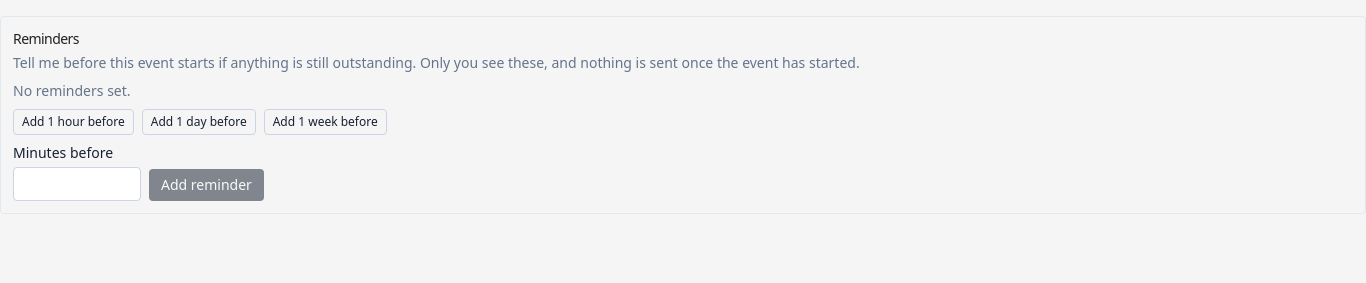
it: a refused schedule names what was wrong with it
Expected: the text "No reminders set." is shown, [13,81,130,100]
Type "0" into the number field named "Minutes before Orientation Day to remind me" at x=77, y=184, box [13,167,141,201]
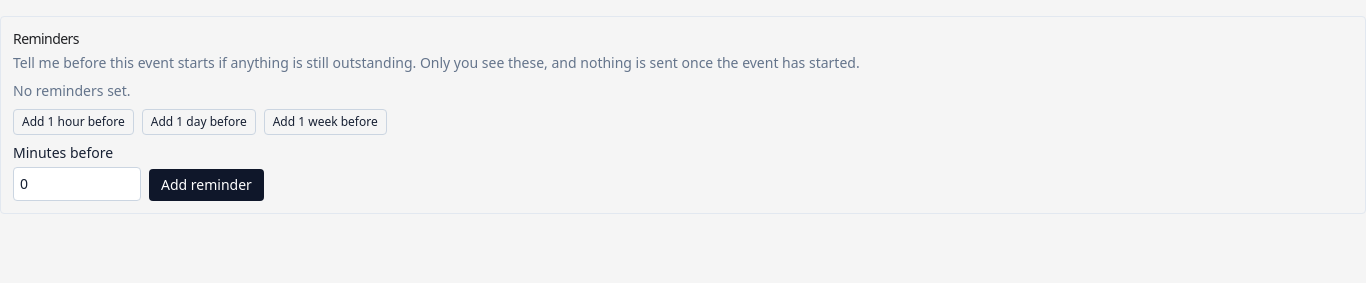
Click the button "Add reminder" at x=206, y=185, box [149,169,264,201]
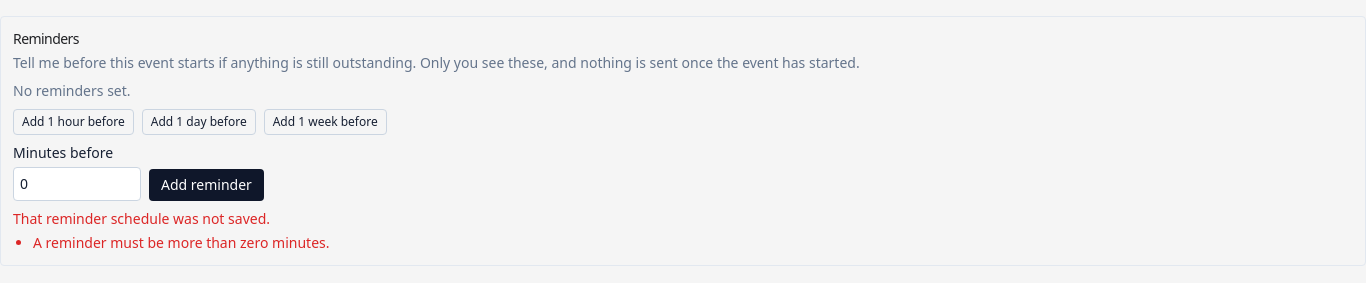
Expected: the message shows "That reminder schedule was not saved.", [13,209,270,228]
Expected: the message shows "must be more than zero minutes", [110,233,326,252]
